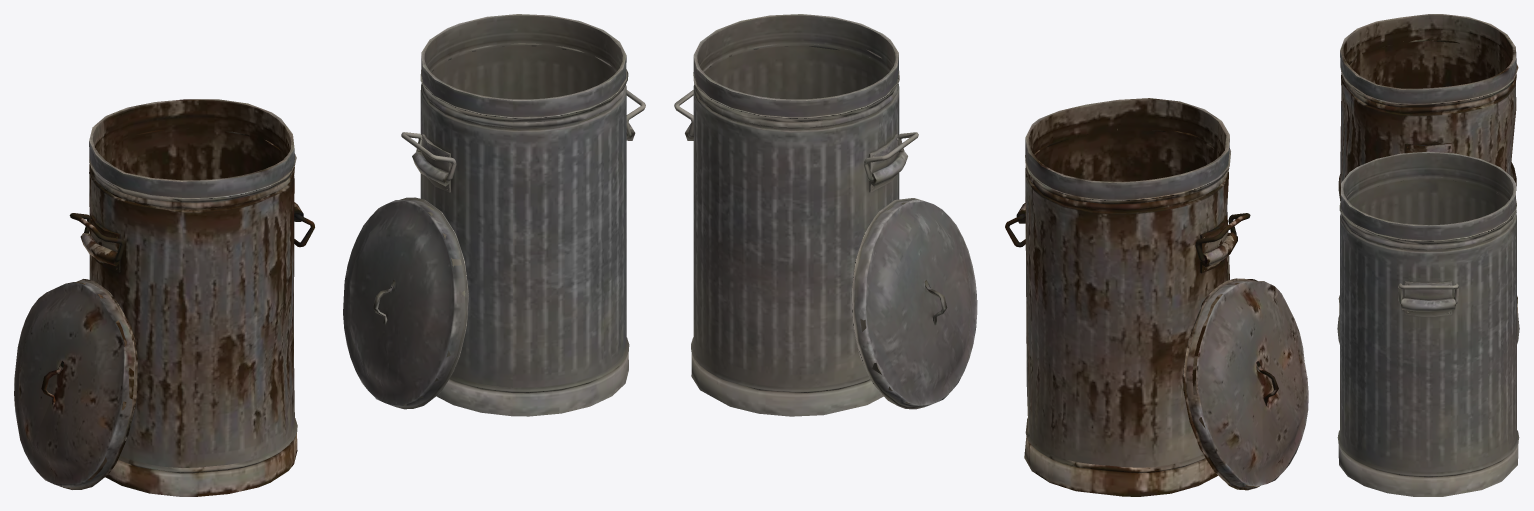
The model's file is trashCan.glb.
3 renders of one model, left to right at view 1: azimuth 30°, elevation 25°; view 2: azimuth 150°, elevation 25°; view 3: azimuth 270°, elevation 25°, orthographic. The views are drawn at different scales.
Parts seen in each view (by area): view 1: metal_trash_can, metal_trash_can_rust, metal_trash_can_lid, metal_trash_can_rust_lid; view 2: metal_trash_can, metal_trash_can_rust, metal_trash_can_lid, metal_trash_can_rust_lid; view 3: metal_trash_can, metal_trash_can_rust, metal_trash_can_handle_right.
Boxes of the visible parts, x1=… form: metal_trash_can: x1=412, y1=14, x2=635, y2=416; metal_trash_can_rust: x1=80, y1=99, x2=303, y2=496; metal_trash_can_lid: x1=343, y1=197, x2=468, y2=409; metal_trash_can_rust_lid: x1=14, y1=279, x2=137, y2=489; metal_trash_can: x1=685, y1=14, x2=907, y2=416; metal_trash_can_rust: x1=1016, y1=98, x2=1237, y2=496; metal_trash_can_lid: x1=851, y1=198, x2=977, y2=409; metal_trash_can_rust_lid: x1=1183, y1=278, x2=1308, y2=490; metal_trash_can: x1=1337, y1=151, x2=1519, y2=496; metal_trash_can_rust: x1=1338, y1=14, x2=1518, y2=316; metal_trash_can_handle_right: x1=1398, y1=283, x2=1458, y2=303.
Bounding box in the file's own units: 1.78 × 0.9062 × 0.5543.
Materials: 2 (2 with a texture image).
